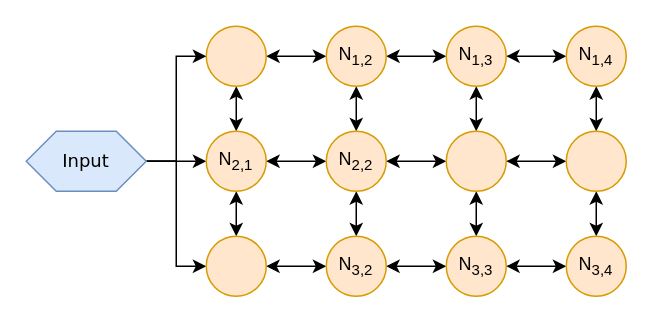
Image size: 653x323. Some labels were removed from this diagram. The centre of each missing label's shape, as x and y in pixels:
N 1,1: the point at 235,55
N 2,3: the point at 475,160
N 2,4: the point at 595,160
N 3,1: the point at 235,265
